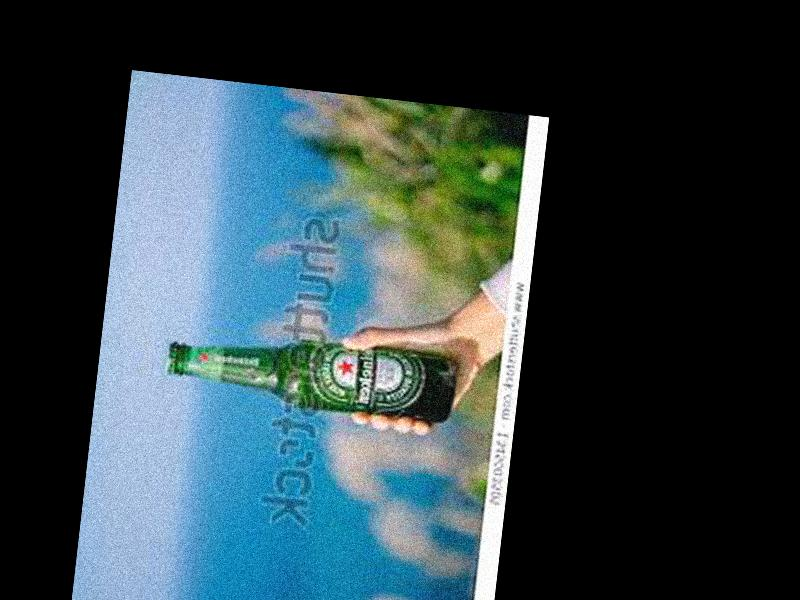Beer: (163, 320, 455, 423)
